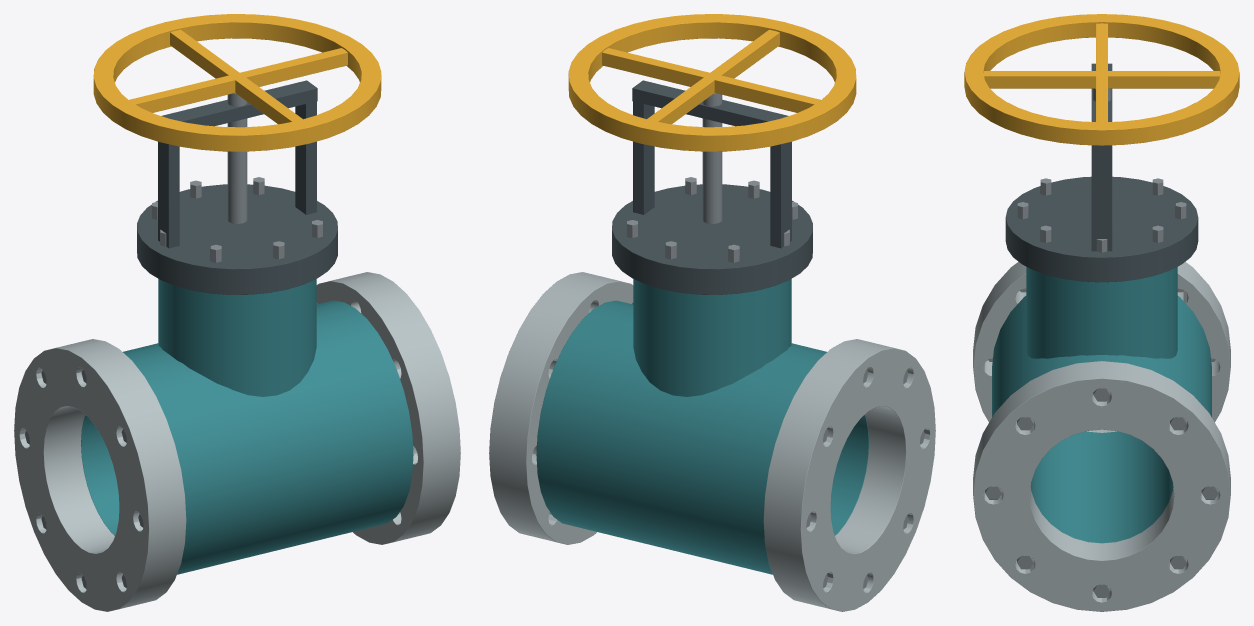
3 renders of one model, left to right at view 1: azimuth 30°, elevation 25°; view 2: azimuth 150°, elevation 25°; view 3: azimuth 270°, elevation 25°, orthographic. The views are drawn at different scales.
Parts seen in each view (by area): view 1: SM_NPP_Valve_1m_A; view 2: SM_NPP_Valve_1m_A; view 3: SM_NPP_Valve_1m_A.
Boxes of the visible parts, x1=… form: SM_NPP_Valve_1m_A: x1=14, y1=14, x2=460, y2=611; SM_NPP_Valve_1m_A: x1=489, y1=14, x2=935, y2=611; SM_NPP_Valve_1m_A: x1=964, y1=14, x2=1239, y2=611.
Size of the model in its own units: 1 by 1.5 by 0.8.
